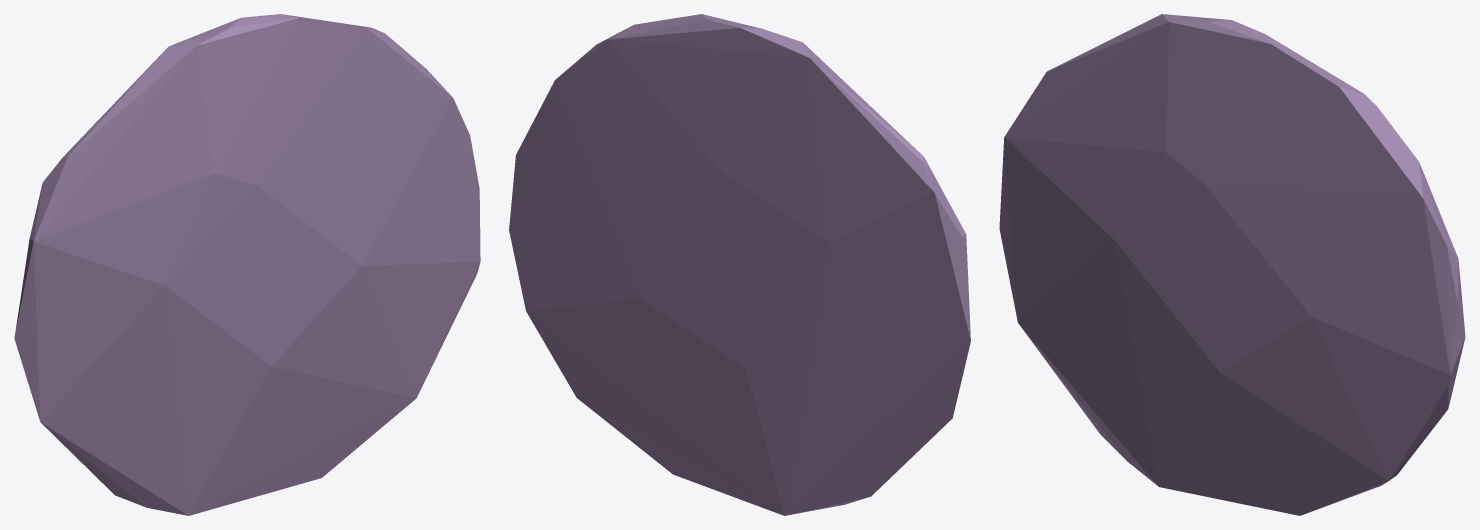
Rendered from drivetrain_clutch_plate_a01.glb.
The picture shows the model from 3 angles, left to right: view 1: azimuth 30°, elevation 25°; view 2: azimuth 150°, elevation 25°; view 3: azimuth 330°, elevation 25°; orthographic projection.
Parts seen in each view (by area): view 1: geometry_0; view 2: geometry_0; view 3: geometry_0.
Boxes of the visible parts, x1,y1,x2,y2 form: geometry_0: (14, 14, 480, 515); geometry_0: (509, 14, 970, 515); geometry_0: (999, 14, 1465, 515).
Bounding box in the file's own units: 0.4784 × 0.4749 × 0.0456.
